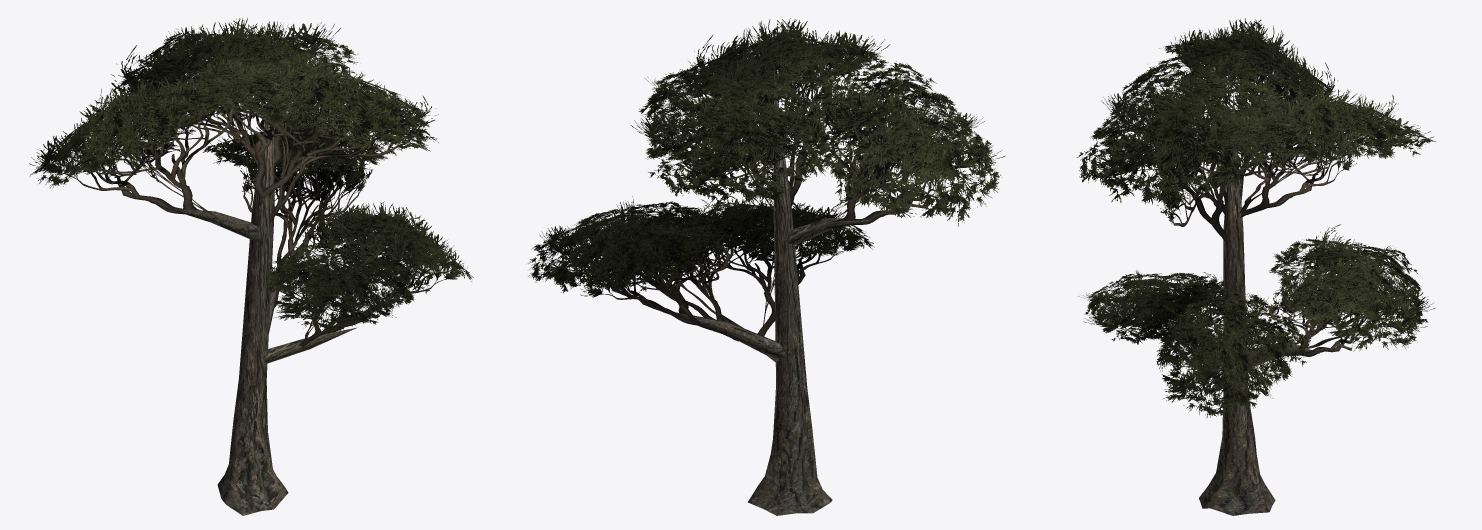
File: Con_02_d_N.fbx
3 views of the same model, side by side, from view 1: azimuth 30°, elevation 25°; view 2: azimuth 150°, elevation 25°; view 3: azimuth 270°, elevation 25° (orthographic). The views are drawn at different scales.
Visible parts, largest first — view 1: Con_02_d, Con_02_Trunk_d; view 2: Con_02_d, Con_02_Trunk_d; view 3: Con_02_d, Con_02_Trunk_d.
Boxes of the visible parts, x1,y1,x2,y2 form: Con_02_d: [29, 18, 473, 348]; Con_02_Trunk_d: [163, 63, 356, 515]; Con_02_d: [528, 18, 1005, 341]; Con_02_Trunk_d: [655, 67, 872, 515]; Con_02_d: [1076, 18, 1435, 417]; Con_02_Trunk_d: [1199, 94, 1319, 515].
Size of what is drawn, in the model's own units: 2671 by 2760 by 2310.
Materials: 2 (2 with a texture image).
